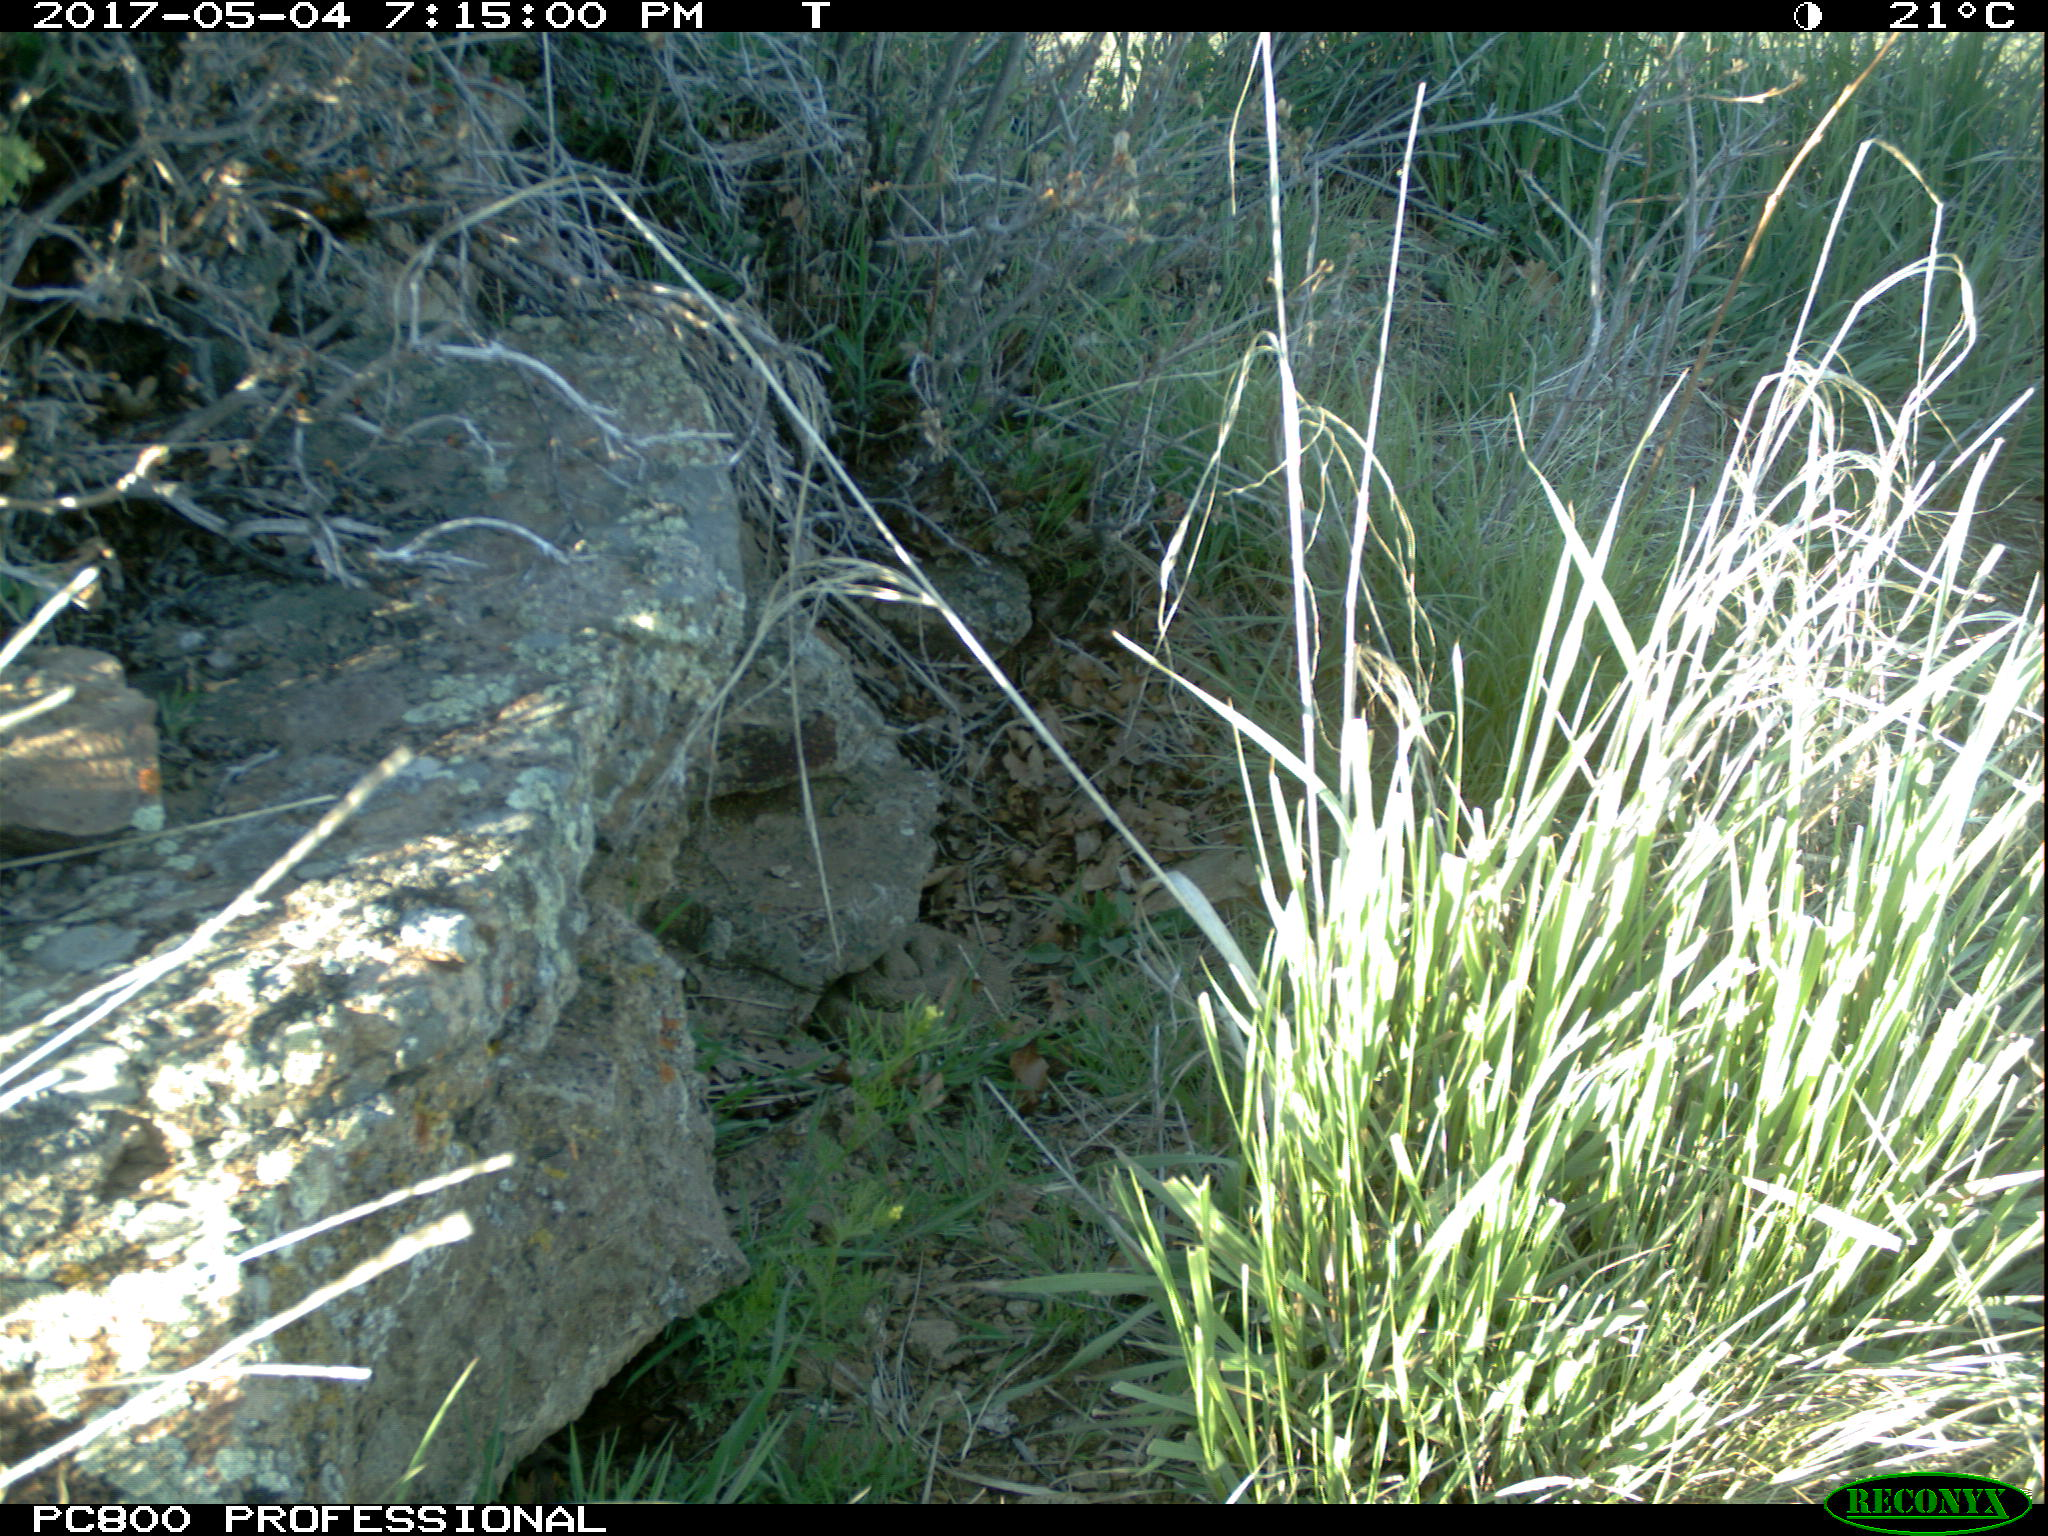snake: (818, 921, 1043, 1049)
